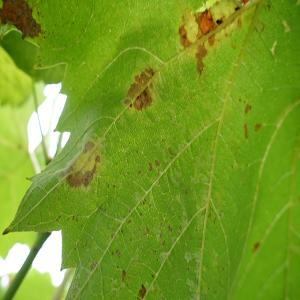Folha: (1, 0, 299, 299)
Fungo: (61, 65, 157, 189), (178, 0, 242, 75), (62, 136, 102, 189), (0, 0, 44, 40), (123, 65, 157, 112), (178, 8, 198, 48), (195, 8, 216, 46), (132, 85, 152, 111), (195, 42, 208, 75), (178, 23, 191, 48), (136, 284, 146, 300), (231, 0, 251, 7), (252, 240, 260, 253), (244, 103, 252, 114), (243, 122, 248, 139), (167, 146, 174, 158), (90, 260, 96, 270), (236, 17, 241, 27), (154, 158, 160, 166), (122, 269, 126, 281), (254, 123, 260, 130), (148, 161, 152, 171), (116, 248, 120, 258), (240, 0, 249, 4)
